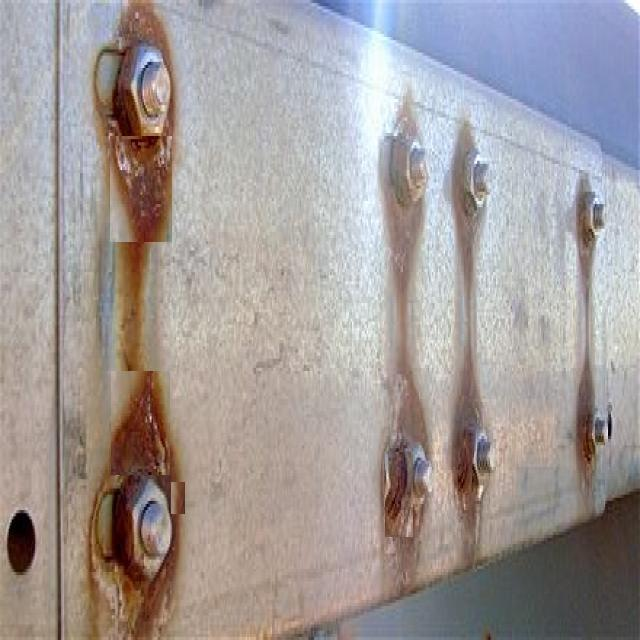Corrosion: (453, 198, 485, 496), (116, 136, 172, 242), (389, 196, 419, 374), (111, 386, 169, 476), (115, 243, 145, 371), (117, 2, 169, 62), (392, 376, 430, 450), (448, 117, 477, 196)
